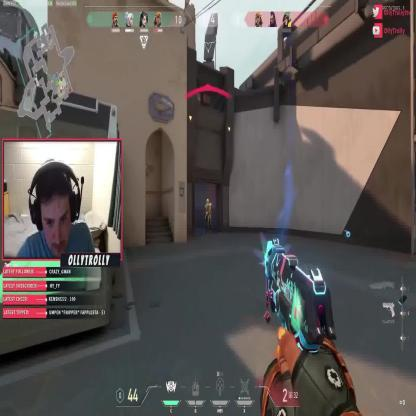enemy: (204, 198, 212, 232)
enemy_head: (206, 198, 210, 205)
